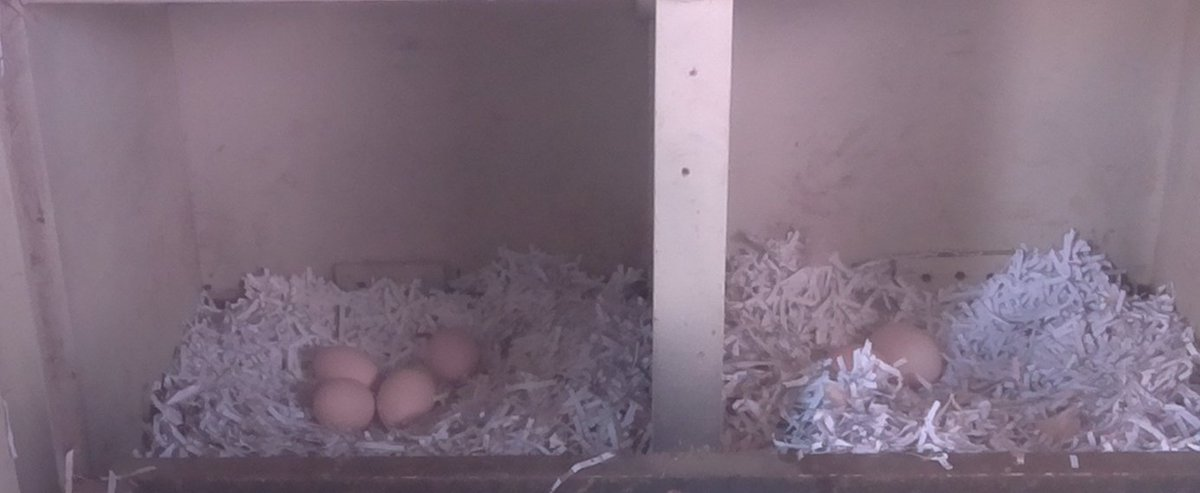egg: (863, 316, 944, 388), (373, 362, 439, 436), (305, 375, 378, 433), (301, 342, 377, 391), (426, 326, 485, 383)
